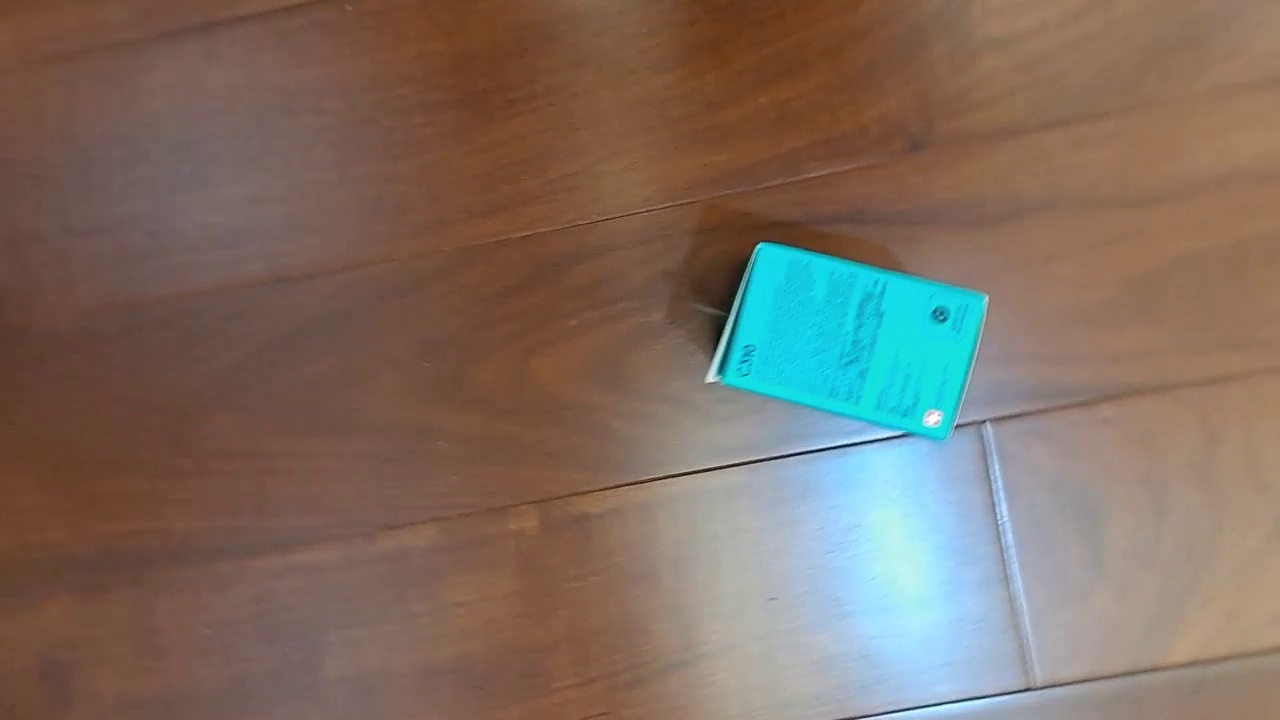webcam: (703, 240, 990, 441)
